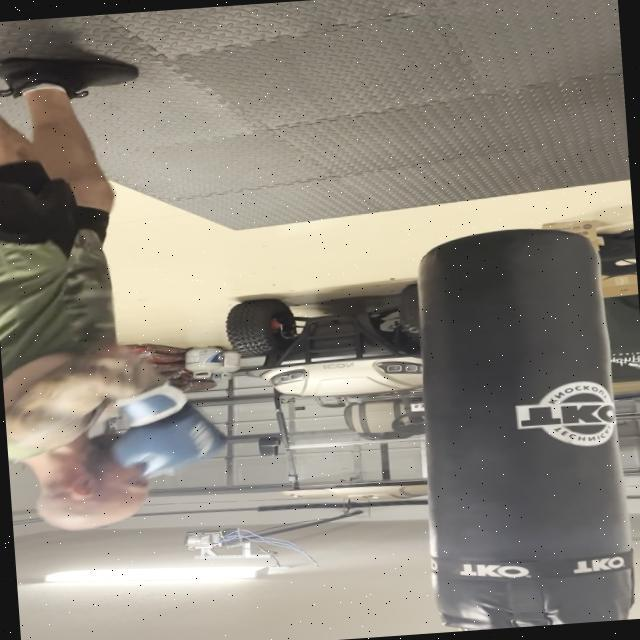bag: (399, 224, 640, 633)
no punch: (0, 252, 243, 541)
